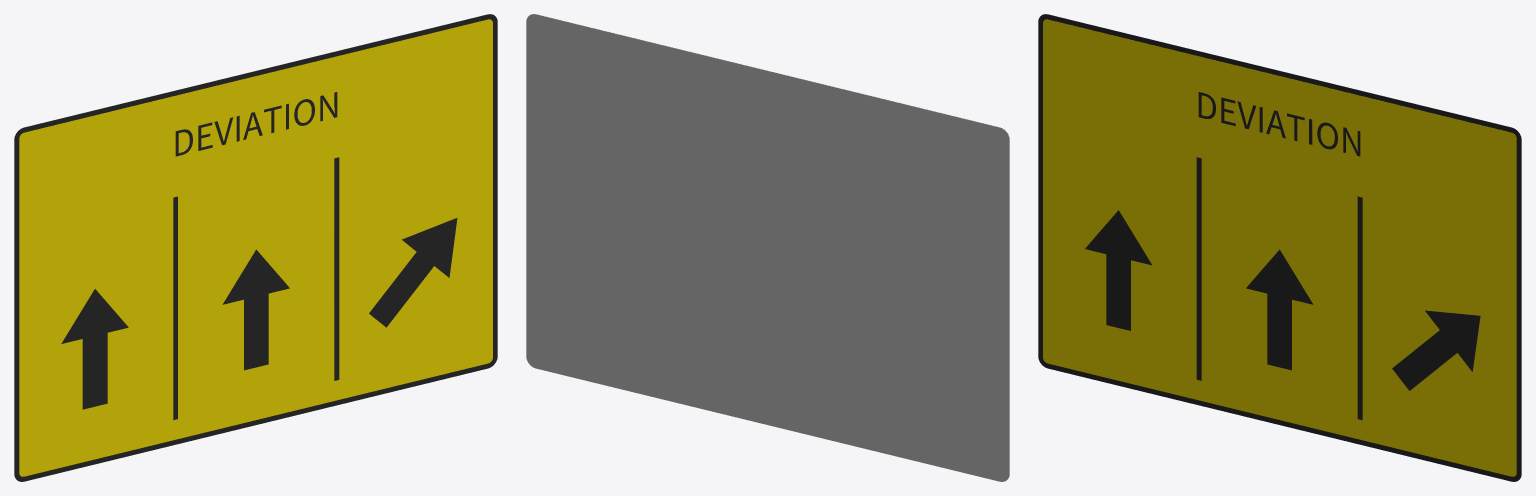
The picture shows the model from 3 angles, left to right: view 1: azimuth 30°, elevation 25°; view 2: azimuth 150°, elevation 25°; view 3: azimuth 330°, elevation 25°; orthographic projection.
Visible parts, largest first — view 1: KD10_fond01, KD10_cadre00, KD10_v02, KD10_v06, KD10_v04, KD10_txt07, KD10_sep05, KD10_sep03; view 2: KD10_dos; view 3: KD10_fond01, KD10_cadre00, KD10_v06, KD10_v04, KD10_v02, KD10_txt07, KD10_sep05, KD10_sep03.
Boxes of the visible parts, left/top/right/bottom form: KD10_fond01: left=19, top=19, right=492, bottom=476; KD10_cadre00: left=14, top=14, right=497, bottom=481; KD10_v02: left=61, top=289, right=128, bottom=409; KD10_v06: left=369, top=218, right=457, bottom=327; KD10_v04: left=222, top=249, right=289, bottom=370; KD10_txt07: left=175, top=92, right=337, bottom=156; KD10_sep05: left=334, top=157, right=339, bottom=380; KD10_sep03: left=173, top=196, right=177, bottom=419; KD10_dos: left=526, top=14, right=1009, bottom=481; KD10_fond01: left=1043, top=19, right=1516, bottom=476; KD10_cadre00: left=1038, top=14, right=1521, bottom=481; KD10_v06: left=1392, top=310, right=1480, bottom=390; KD10_v04: left=1246, top=249, right=1313, bottom=370; KD10_v02: left=1085, top=210, right=1151, bottom=330; KD10_txt07: left=1198, top=92, right=1360, bottom=156; KD10_sep05: left=1357, top=196, right=1362, bottom=420; KD10_sep03: left=1196, top=157, right=1201, bottom=380.
Size of the model in its own units: 2 by 1.4 by 0.0045.
